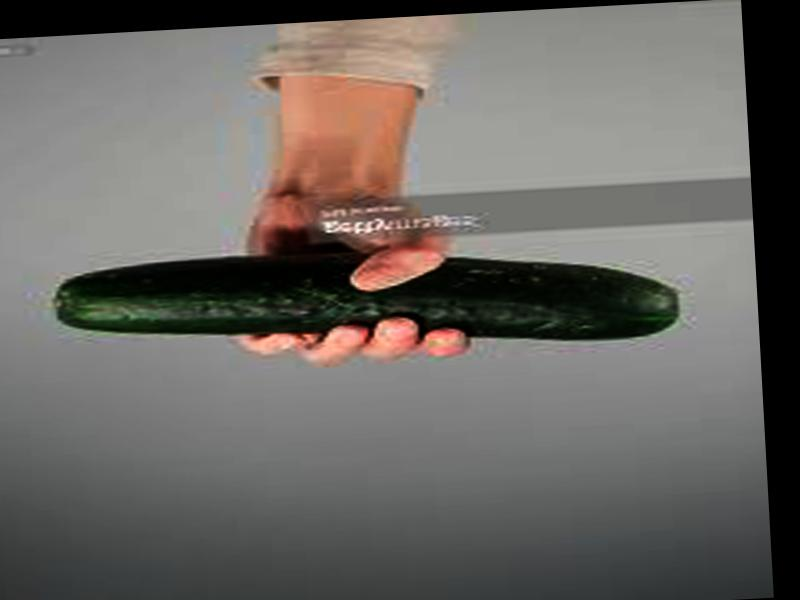Cucumber: (64, 233, 680, 369)
